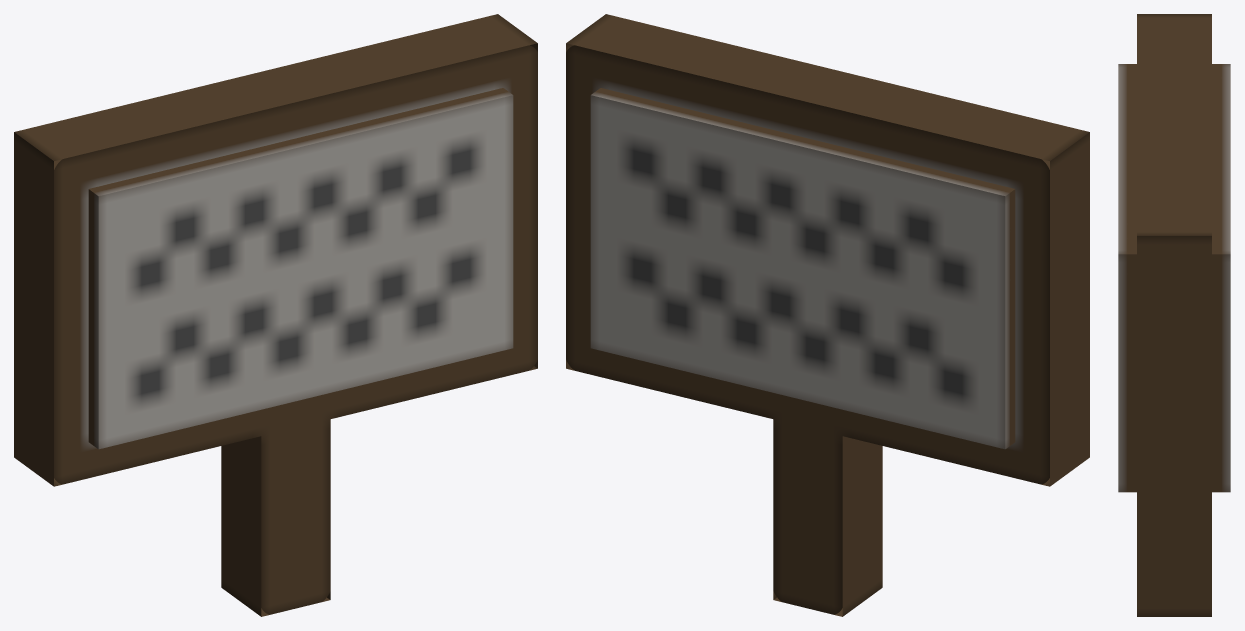
Rendered from sign.fbx.
3 views of the same model, side by side, from view 1: azimuth 30°, elevation 25°; view 2: azimuth 150°, elevation 25°; view 3: azimuth 270°, elevation 25° (orthographic). The views are drawn at different scales.
Parts seen in each view (by area): view 1: generated; view 2: generated; view 3: generated.
Part boxes in pixels (<box>): generated: <box>14,14,537,616</box>; generated: <box>566,14,1089,616</box>; generated: <box>1118,14,1230,616</box>.
Size of the model in its own units: 140 by 140 by 30.
